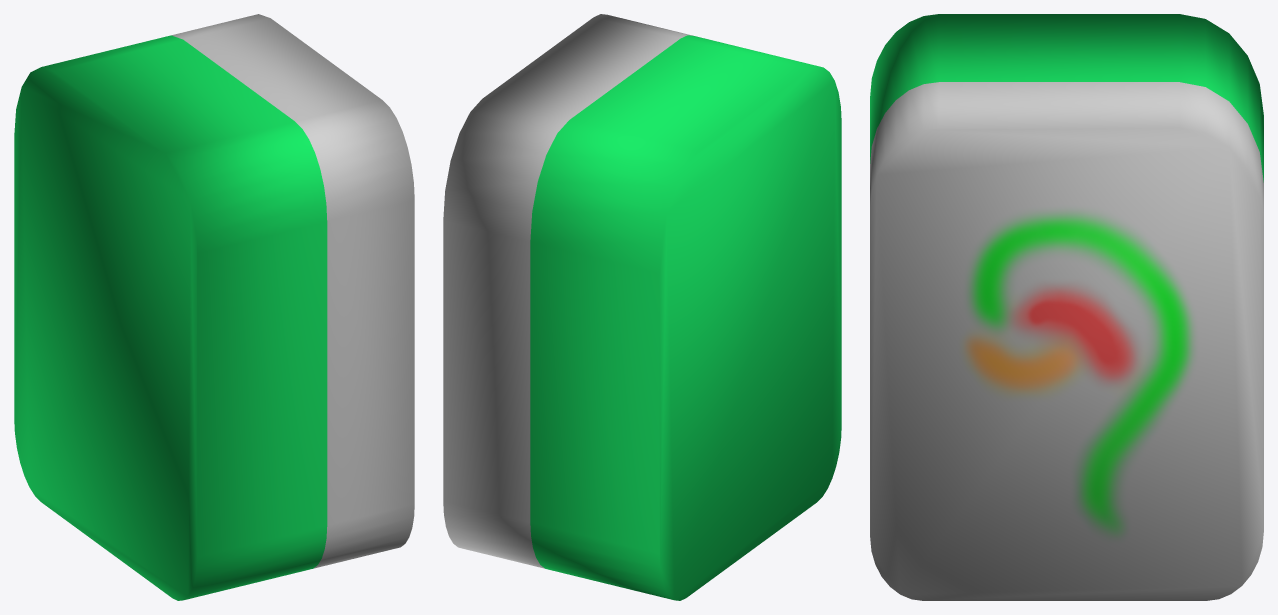
3 renders of one model, left to right at view 1: azimuth 30°, elevation 25°; view 2: azimuth 150°, elevation 25°; view 3: azimuth 270°, elevation 25°, orthographic. The views are drawn at different scales.
Visible parts, largest first — view 1: Cube; view 2: Cube; view 3: Cube.
Part boxes in pixels (<box>): Cube: <box>14,14,414,600</box>; Cube: <box>443,14,841,600</box>; Cube: <box>870,14,1263,600</box>.
Size of the model in its own units: 1.03 by 2 by 1.51.
Materials: 2 (1 with a texture image).
